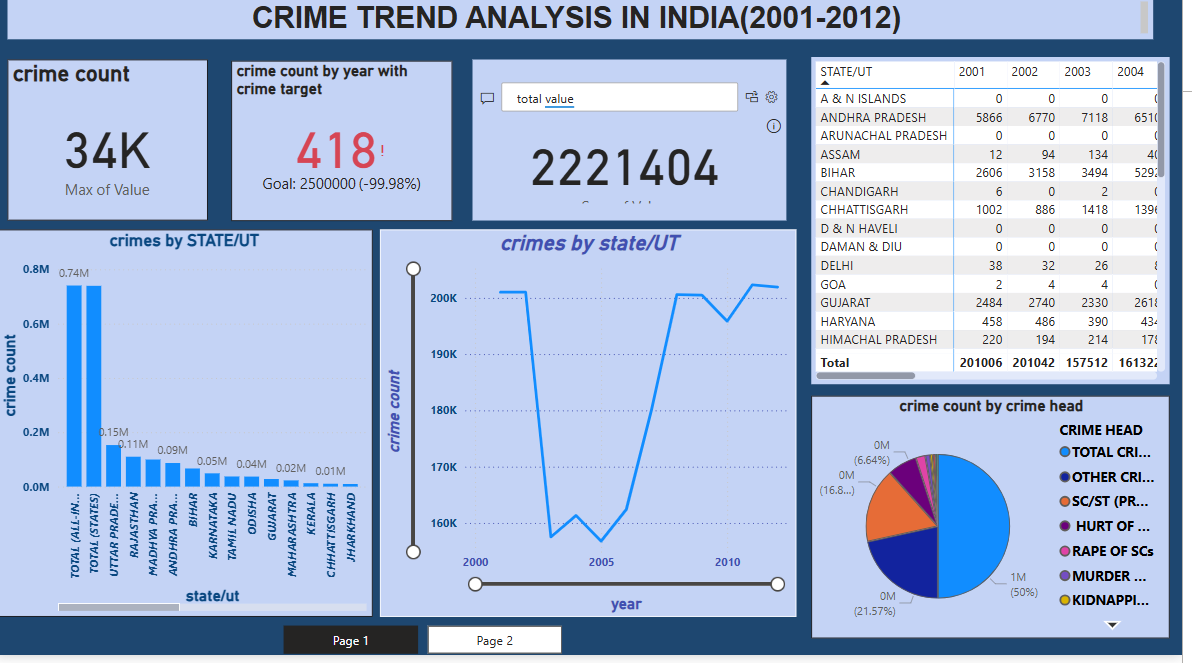

This screenshot's page, from the dashboard's own definition file:
{"tool":"powerbi","page":{"name":"Page 1","canvas":[1280,720],"ordinal":0},"visuals":[{"type":"textbox","box":[13.7,11,1235,45.3],"z":0},{"type":"card","title":"crime count","fields":{"Values":["Max(crcCASc.Value)"]},"box":[13.5,78.2,215.6,173.8],"z":1000},{"type":"kpi","title":"crime count by year with crime target","fields":{"Indicator":["CountNonNull(crcCASc.Value)"],"Goal":["crcCASc.crime target"],"TrendLine":["crcCASc.Attribute"]},"box":[254.7,79.5,238.5,172.5],"z":2000},{"type":"lineChart","title":"crimes by state/UT","fields":{"Category":["crcCASc.Attribute"],"Y":["Sum(crcCASc.Value)"]},"box":[415.1,261.4,448.8,417.8],"z":3000},{"type":"clusteredColumnChart","title":"crimes by STATE/UT","fields":{"Y":["Sum(crcCASc.Value)"],"Category":["crcCASc.STATE/UT"]},"box":[0,261.4,407,417.8],"z":4000},{"type":"pieChart","title":"crime count by crime head","fields":{"Category":["crcCASc.CRIME HEAD"],"Y":["Sum(crcCASc.Value)"]},"box":[880,440.7,386.8,261.4],"z":5000},{"type":"pivotTable","fields":{"Rows":["crcCASc.STATE/UT"],"Columns":["crcCASc.Attribute"],"Values":["Sum(crcCASc.Value)"]},"box":[880,75.5,386.8,353.1],"z":6000},{"type":"qnaVisual","box":[514.8,78.2,338.3,173.8],"z":7000},{"type":"pageNavigator","box":[311.3,688.7,300.5,31],"z":8000}]}

Visuals, with their boxes in screenshot pixels (x1, y1, x2, y2):
textbox: [0,0,1162,34]
"crime count" card: [0,55,201,219]
"crime count by year with crime target" kpi: [225,56,450,219]
"crimes by state/UT" lineChart: [376,228,799,622]
"crimes by STATE/UT" clusteredColumnChart: [0,228,368,622]
"crime count by crime head" pieChart: [815,397,1179,644]
pivotTable - crcCASc.STATE/UT x crcCASc.Attribute: [815,53,1179,386]
qnaVisual: [470,55,789,219]
pageNavigator: [278,631,562,660]
